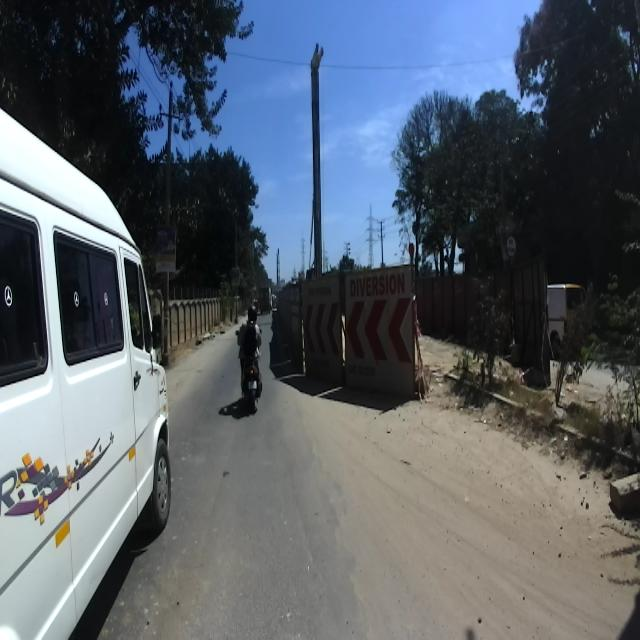barrier ahead at: (340, 266, 421, 416)
bus ahead at: (0, 86, 175, 640)
motorcycle ahead at: (234, 343, 268, 412)
